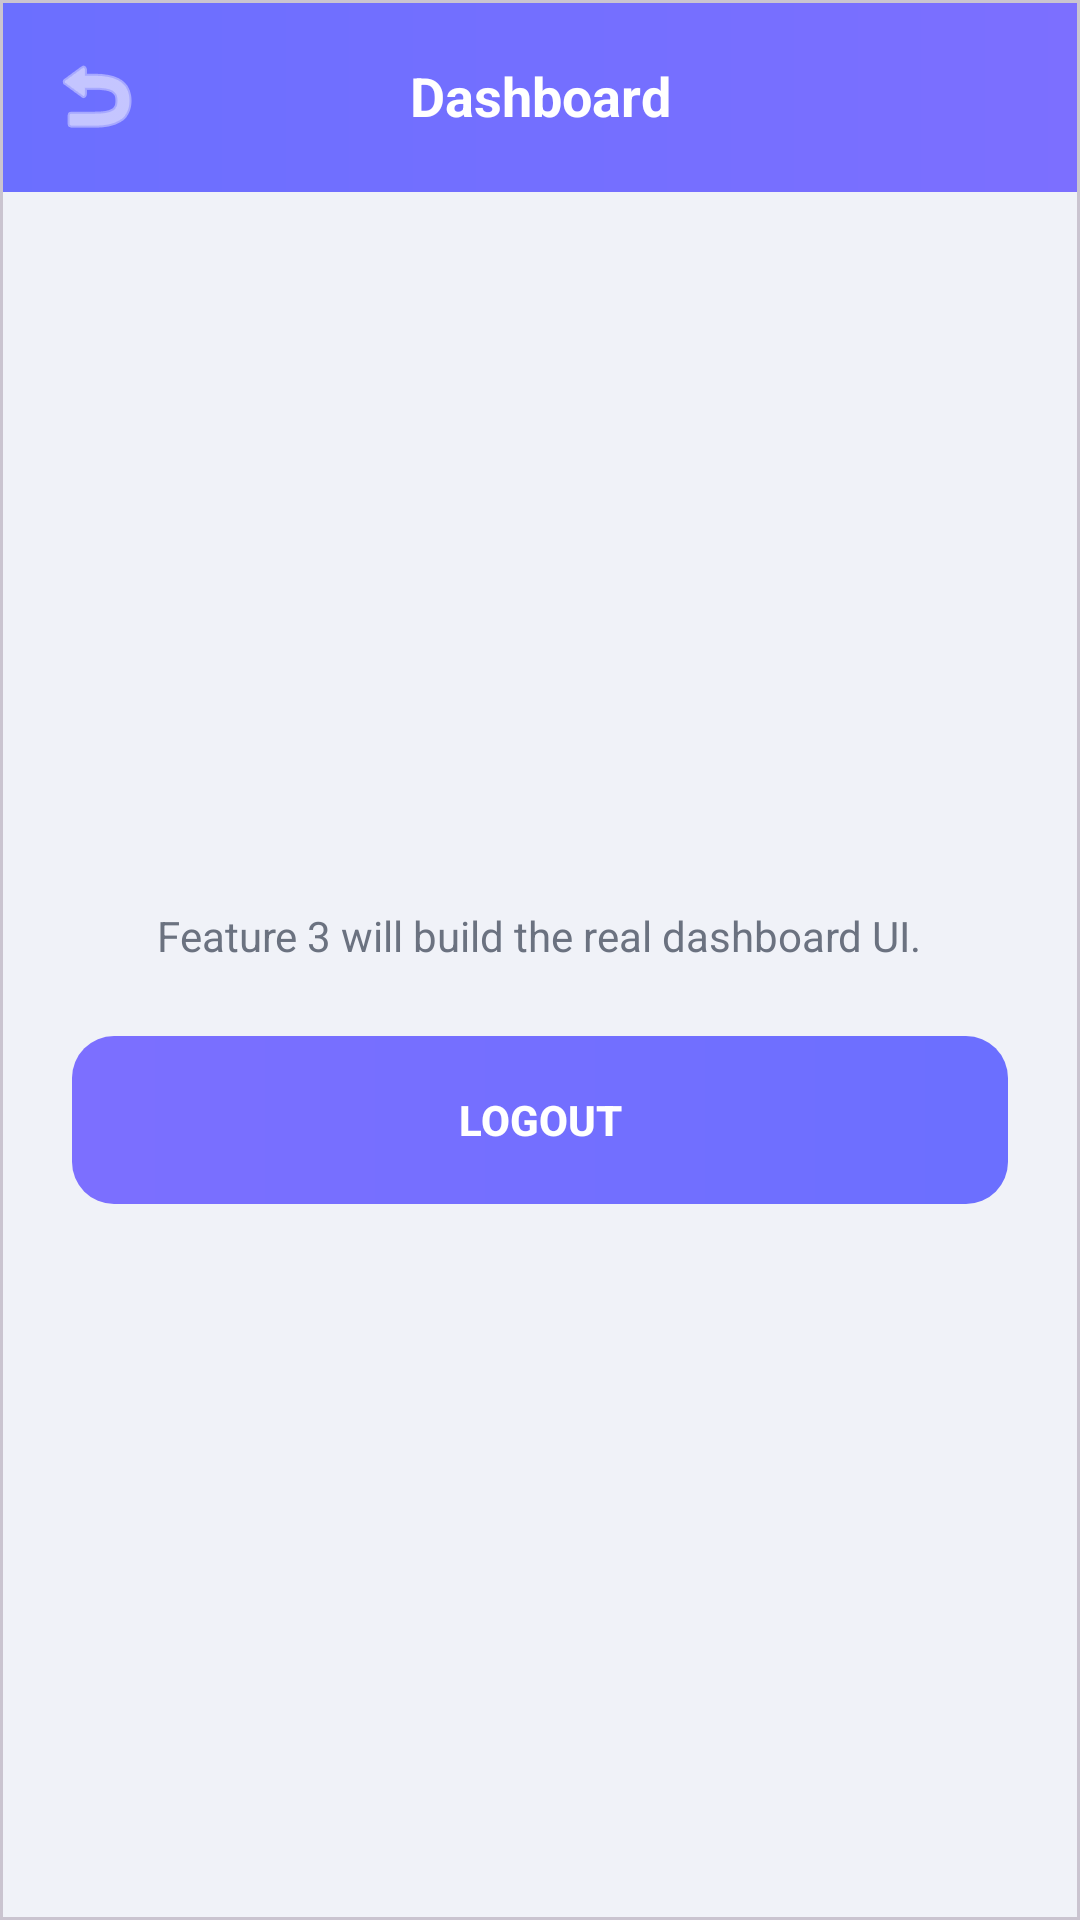

Named icons in this screenshot (1080w x 1920h) and their bounding boxes, detection(x1, y1, x2, y2):
Go back: detection(63, 66, 132, 128)
